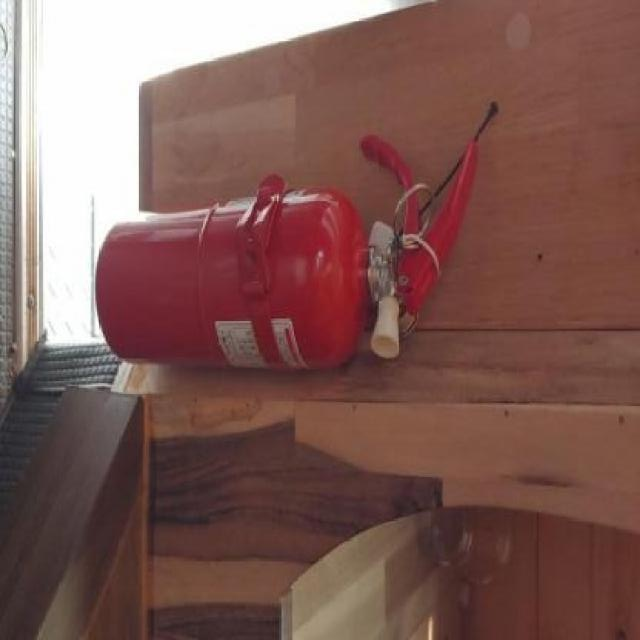fire extinguisher: (95, 132, 479, 370)
